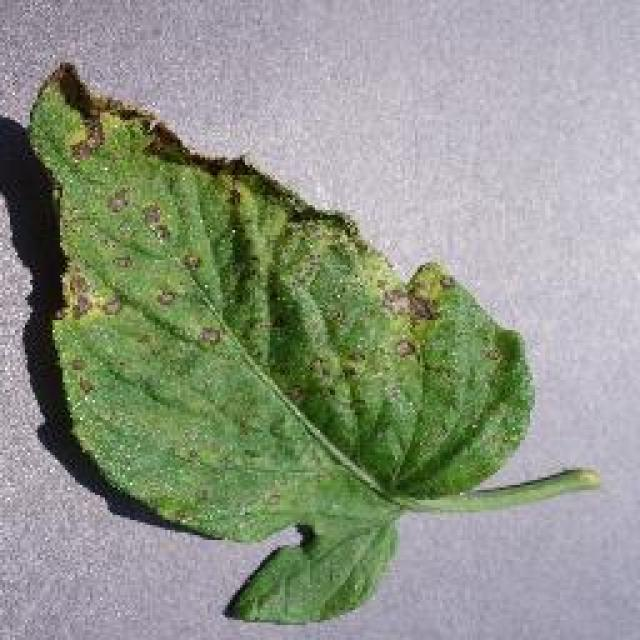Tomato target spot leaf: (24, 61, 531, 631)
